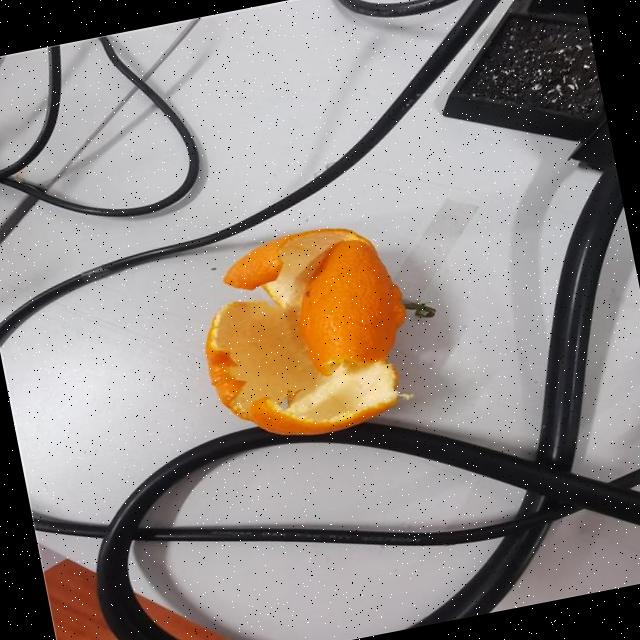orange-peel: (184, 213, 429, 454)
